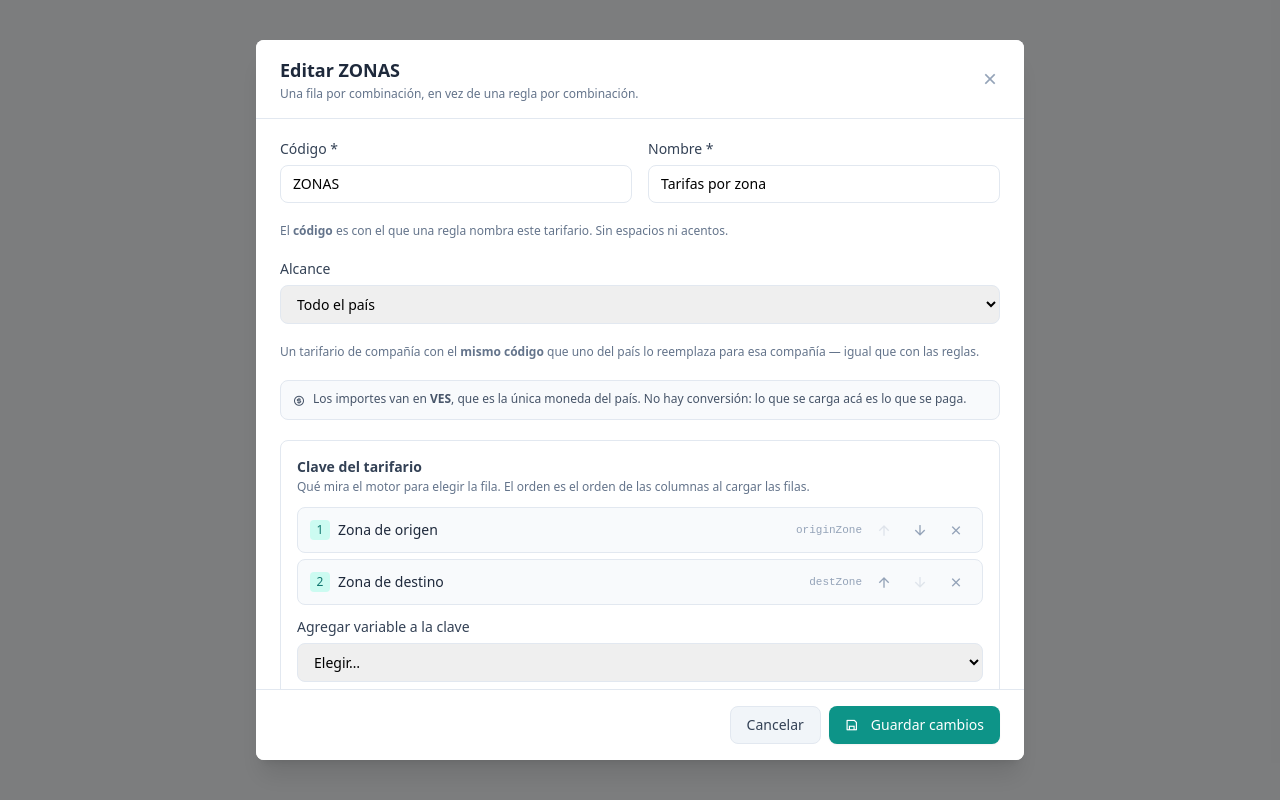
Test: RateTableModal (caracterización) › edición: cargar el tarifario y avisar si se cambia la clave
The width and height of the screenshot is (1280, 800).
Expected: the field labelled "Código *" holds "ZONAS", [280,165,632,203]
Expected: the text "Cambiaste la clave de un tarifario que ya tiene filas" is not shown
Click the button named "Quitar" next to "destZone": (956,582) [942,568,970,596]
(page scrolled)
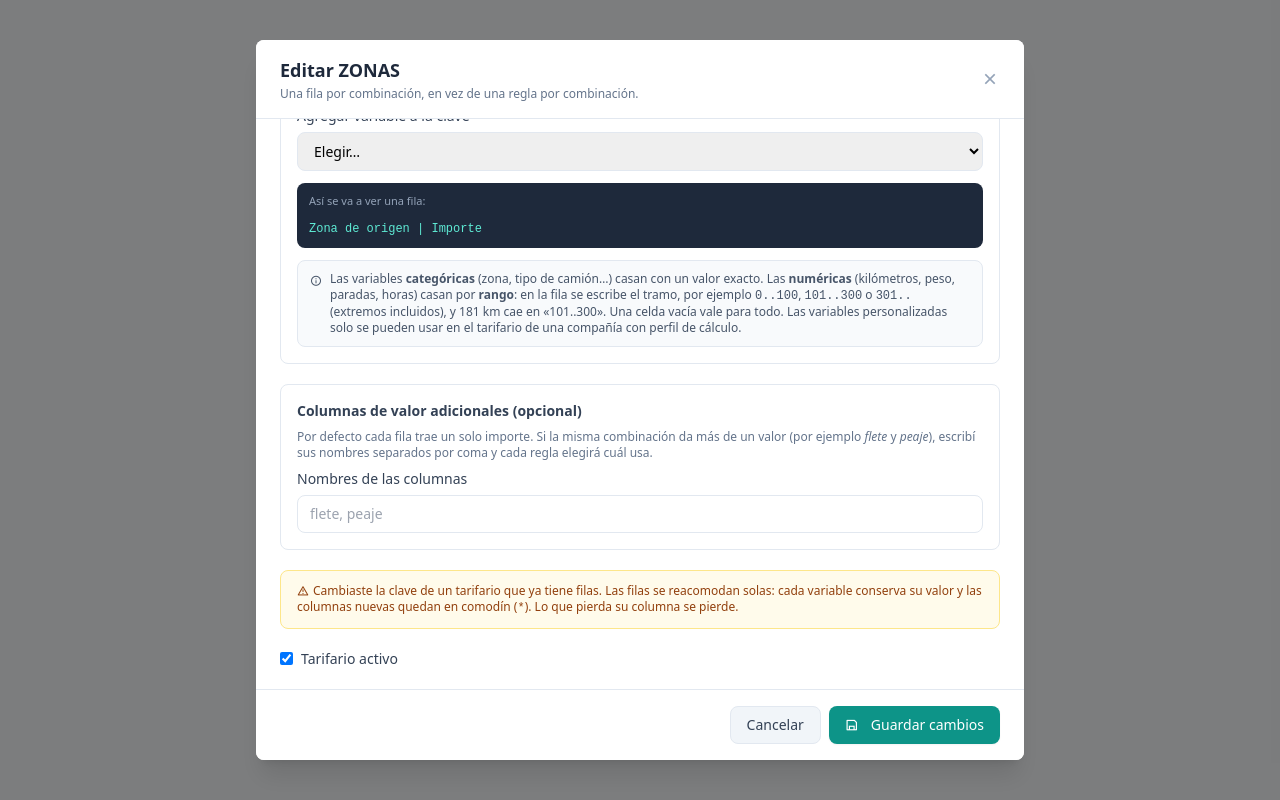
Now the text "Cambiaste la clave de un tarifario que ya tiene filas" is shown, box [297,582,982,614]
